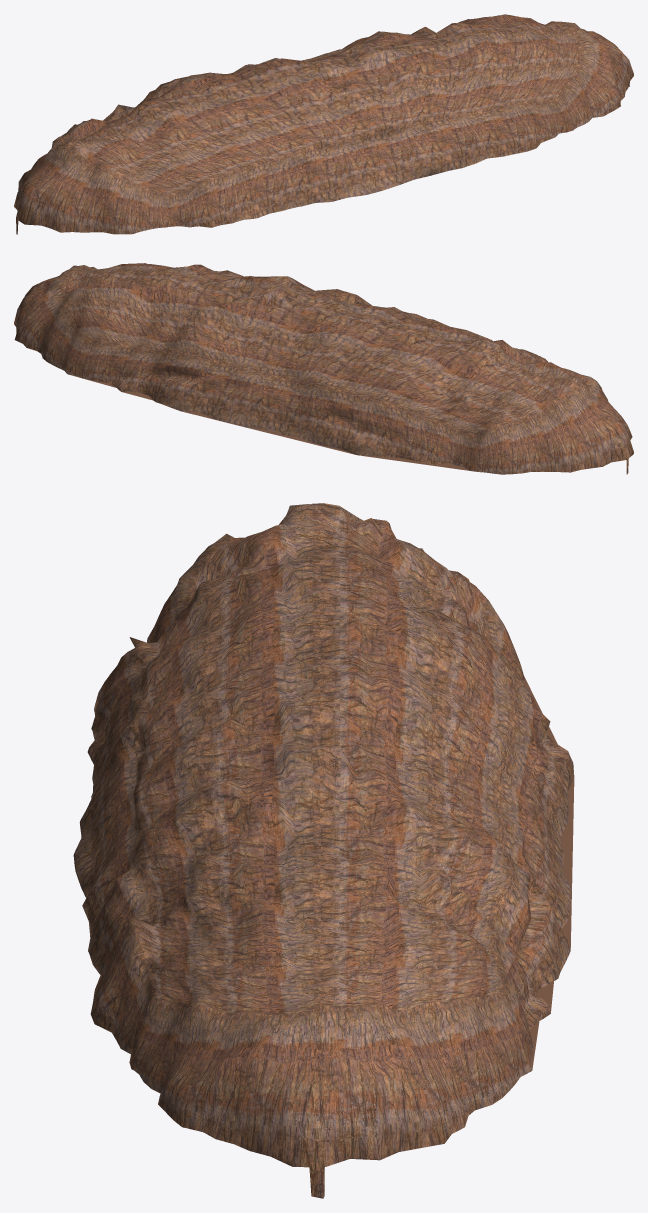
Rendered from mountain2.fbx.
3 views of the same model, one above another, from view 1: azimuth 30°, elevation 25°; view 2: azimuth 150°, elevation 25°; view 3: azimuth 270°, elevation 25° (orthographic). The views are drawn at different scales.
Parts seen in each view (by area): view 1: mountain; view 2: mountain; view 3: mountain.
Part boxes in pixels (bbox=[...]): mountain: bbox=[14, 14, 633, 234]; mountain: bbox=[14, 263, 633, 474]; mountain: bbox=[73, 503, 574, 1198].
Size of the model in its own units: 400 by 64.03 by 143.
